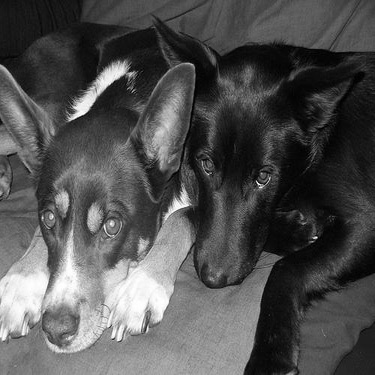dog: (134, 8, 372, 371), (3, 10, 208, 355)
